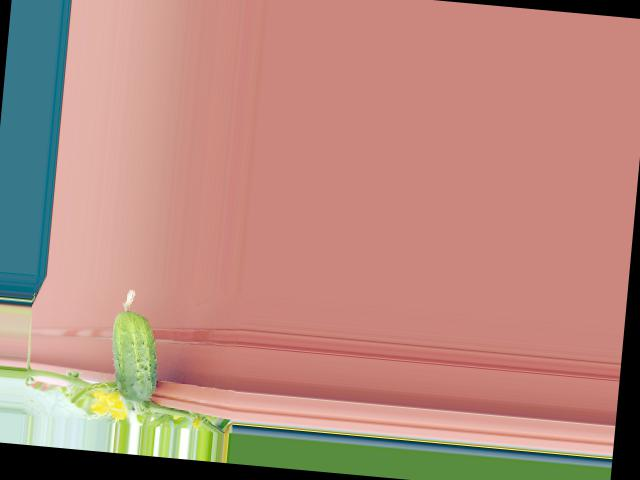cucumber: (105, 287, 164, 403)
